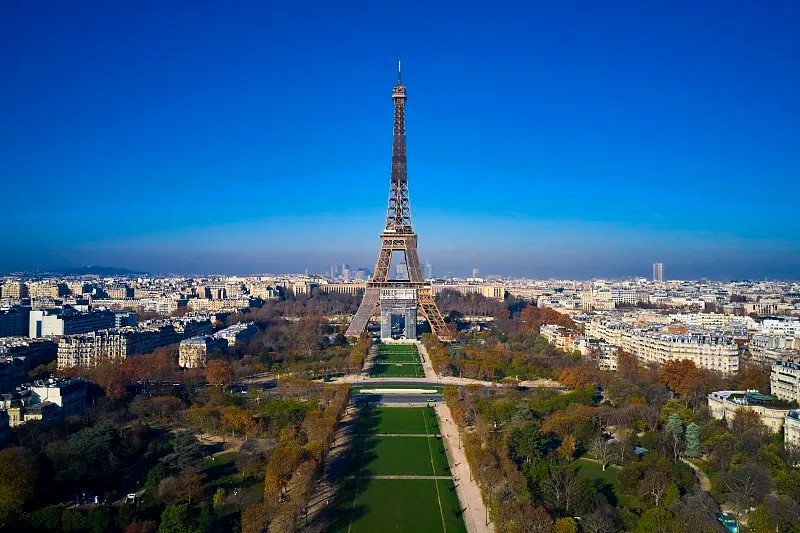Eiffel: (344, 59, 454, 340)
